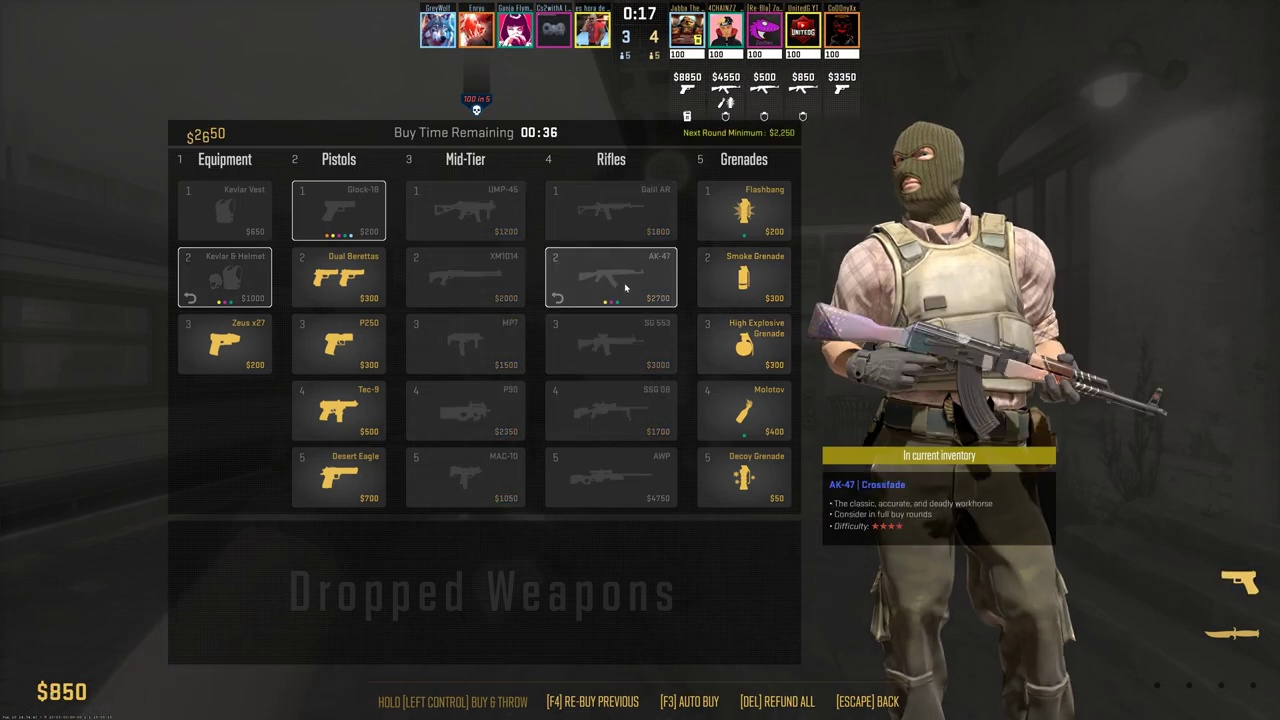Terrorist: (848, 120, 1075, 712)
